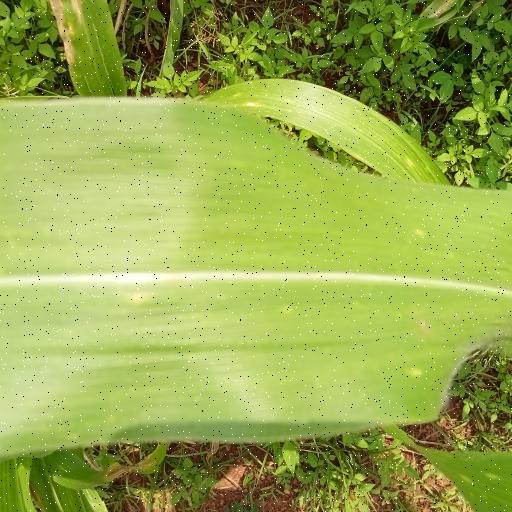Corn_Brown_Spots: (4, 94, 512, 436)
